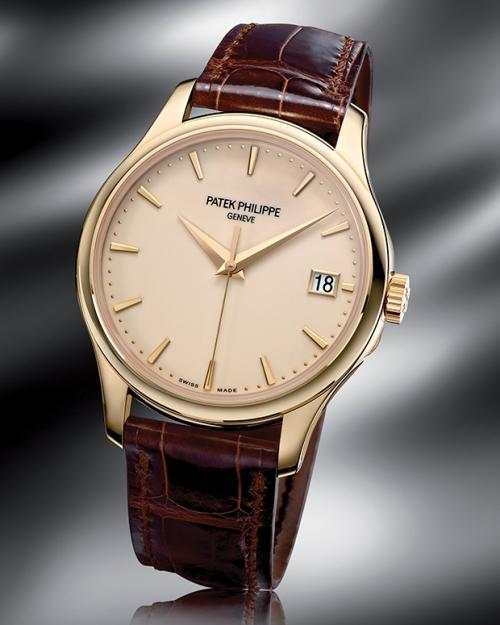watch: (55, 18, 416, 600)
